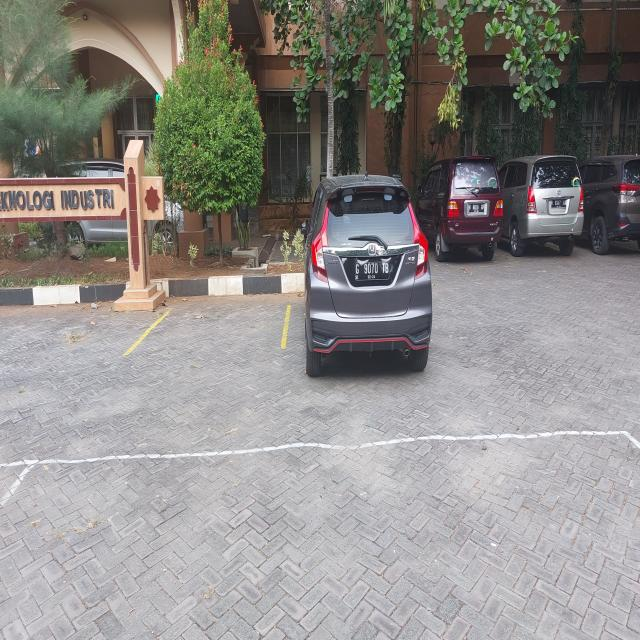empty: (119, 293, 291, 360)
occupied: (283, 177, 433, 374)
